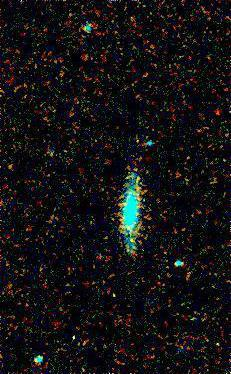star: (112, 225, 142, 255)
